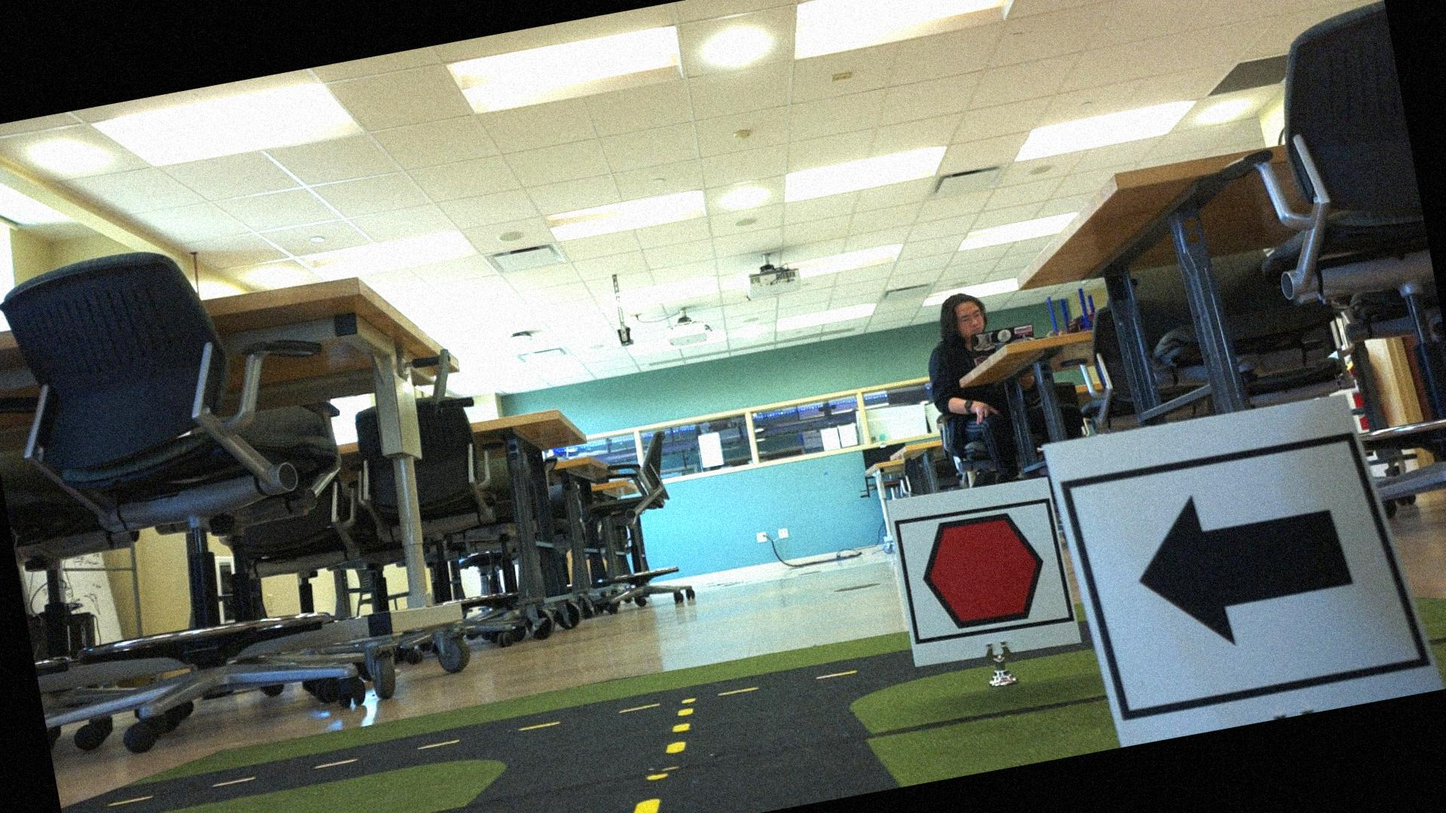stop: (898, 498, 1068, 644)
turnright: (1073, 433, 1399, 727)
yellowline: (617, 705, 712, 812)
